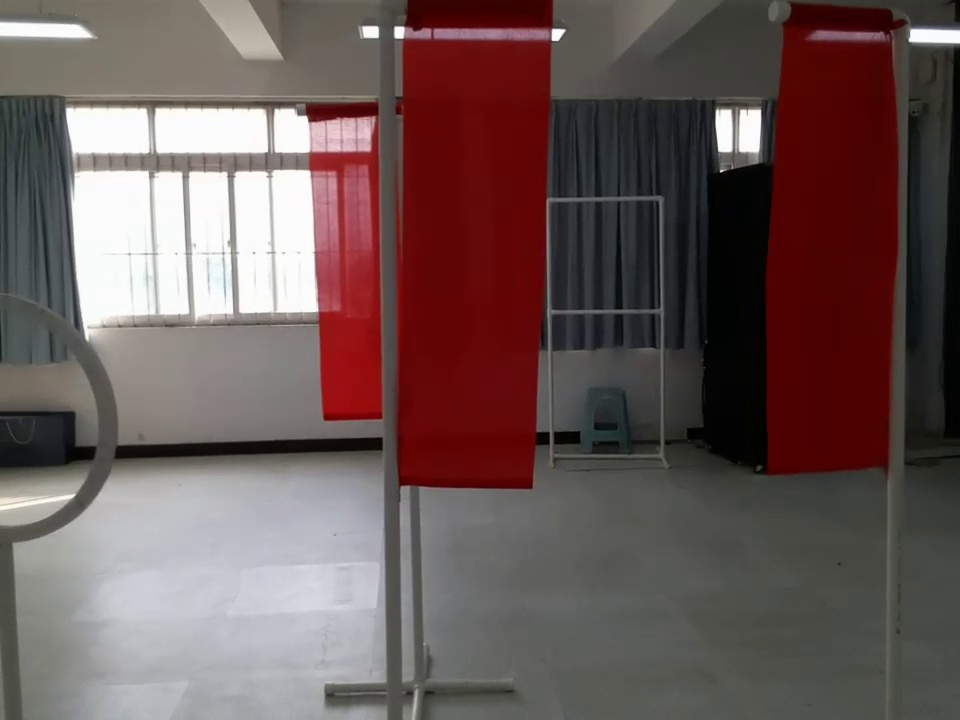qi: (363, 3, 561, 497), (766, 3, 907, 476), (293, 96, 387, 422)
quan: (1, 290, 123, 542)
